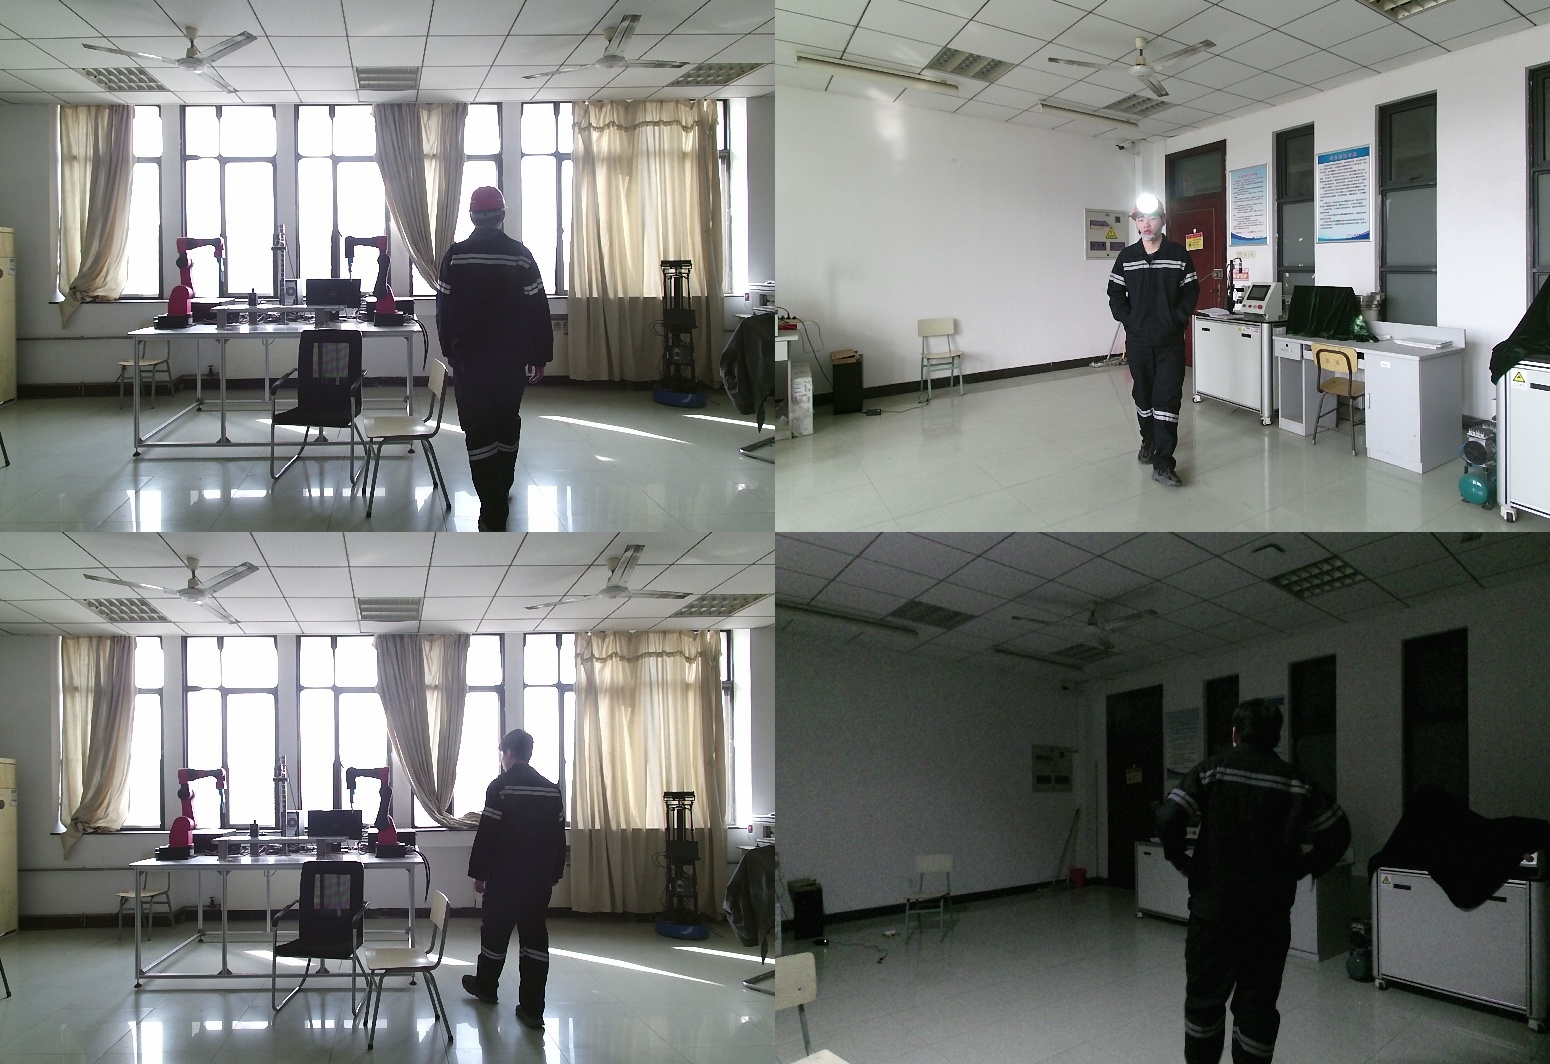person: (1165, 700, 1368, 1064), (438, 185, 559, 532), (461, 732, 574, 1026), (1105, 199, 1209, 490)
